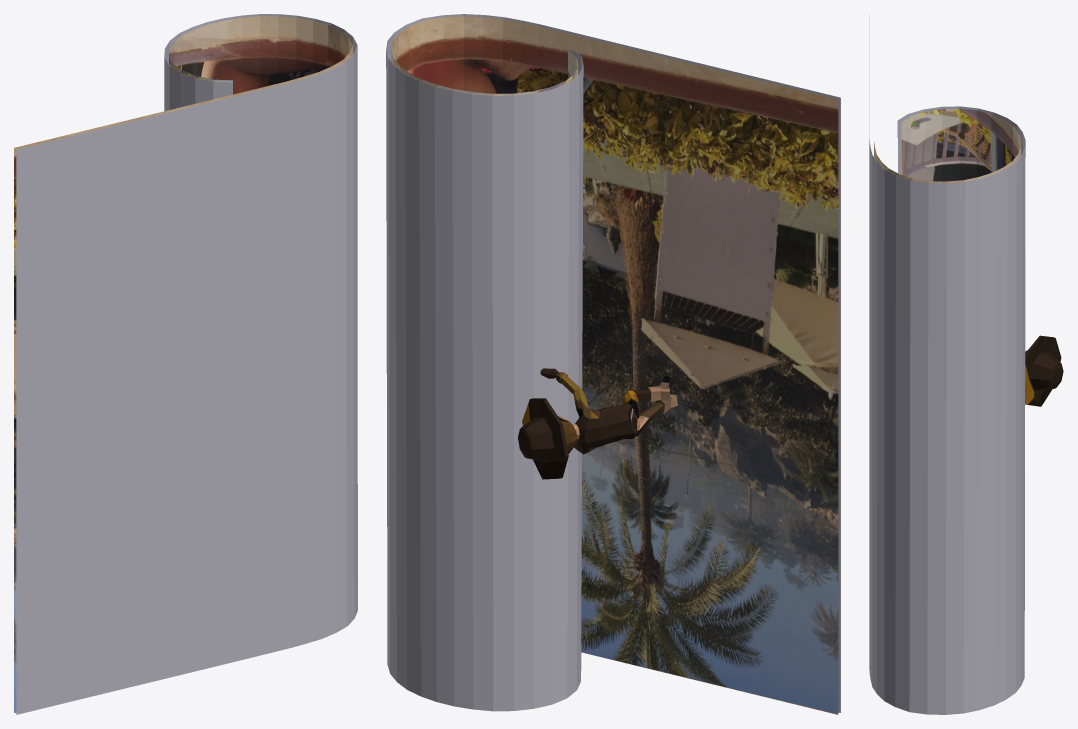
The model's file is start_file2_000045.obj.
The picture shows the model from 3 angles, left to right: view 1: azimuth 30°, elevation 25°; view 2: azimuth 150°, elevation 25°; view 3: azimuth 270°, elevation 25°; orthographic projection. The views are drawn at different scales.
Visible parts, largest first — view 1: Cube_Cube.001; view 2: Cube_Cube.001, Character_Cube; view 3: Cube_Cube.001, Character_Cube.
Boxes of the visible parts, bbox=[...] form: Cube_Cube.001: bbox=[14, 14, 357, 714]; Cube_Cube.001: bbox=[386, 14, 840, 714]; Character_Cube: bbox=[518, 368, 677, 479]; Cube_Cube.001: bbox=[869, 14, 1025, 714]; Character_Cube: bbox=[1025, 335, 1063, 406].
Bounding box in the file's own units: 1.04 × 1.52 × 0.5044.
2 materials, 2 textured.
